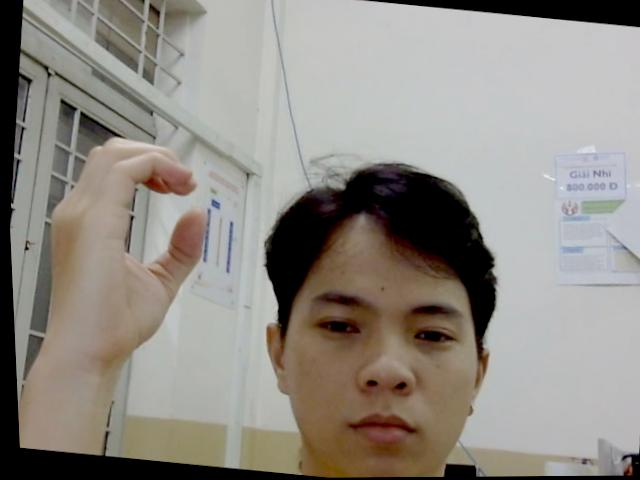C: (28, 125, 218, 357)
